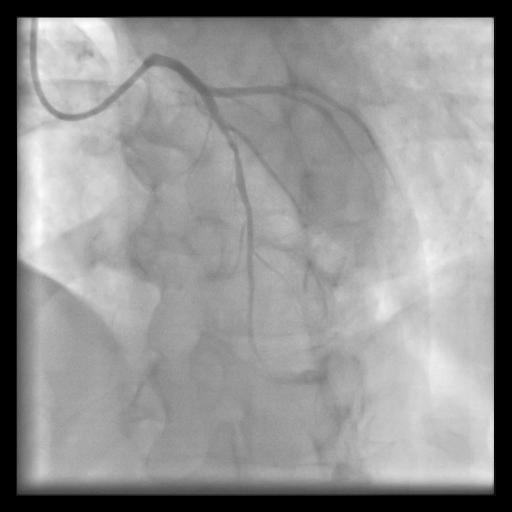Stenosis: (222, 126, 242, 172)
